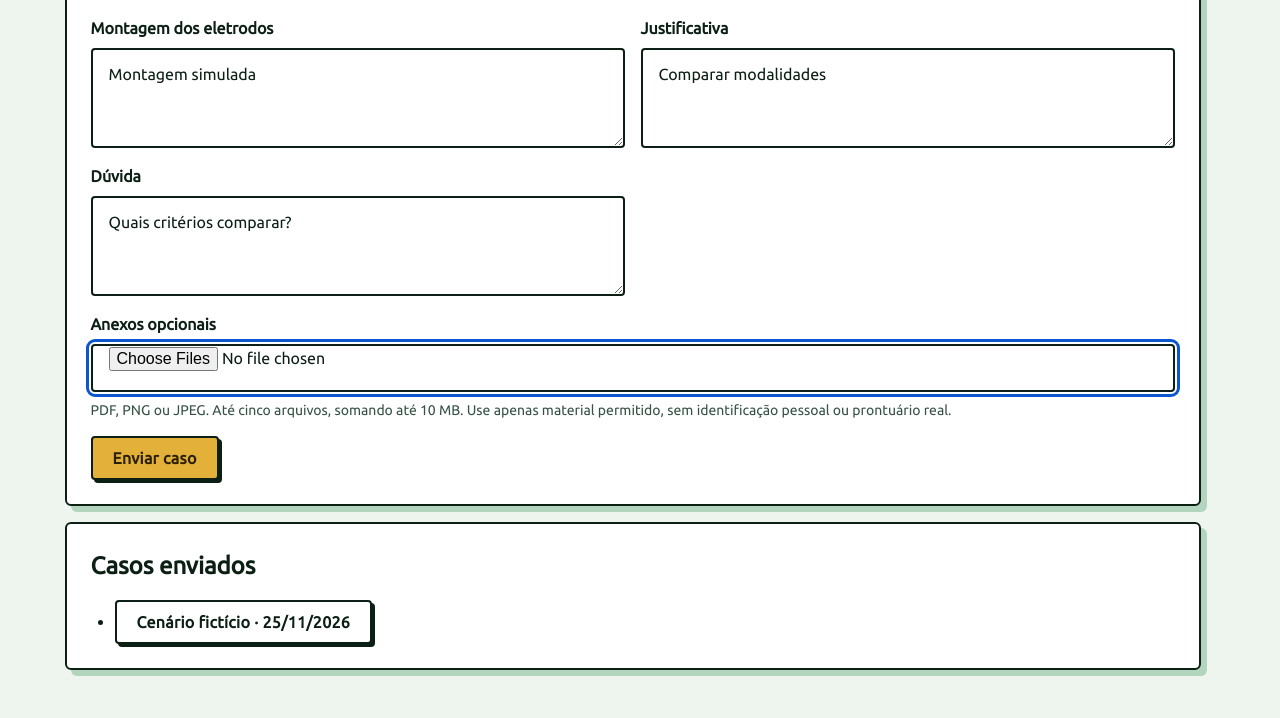
Scenario: envia o caso como multipart e abre a resposta educativa do próprio envio
Earlier steps of the test are not shown.
(page scrolled)
Click the button "Enviar caso". click: (155, 458)
box: x1=90 y1=436 x2=219 y2=480
(page scrolled)
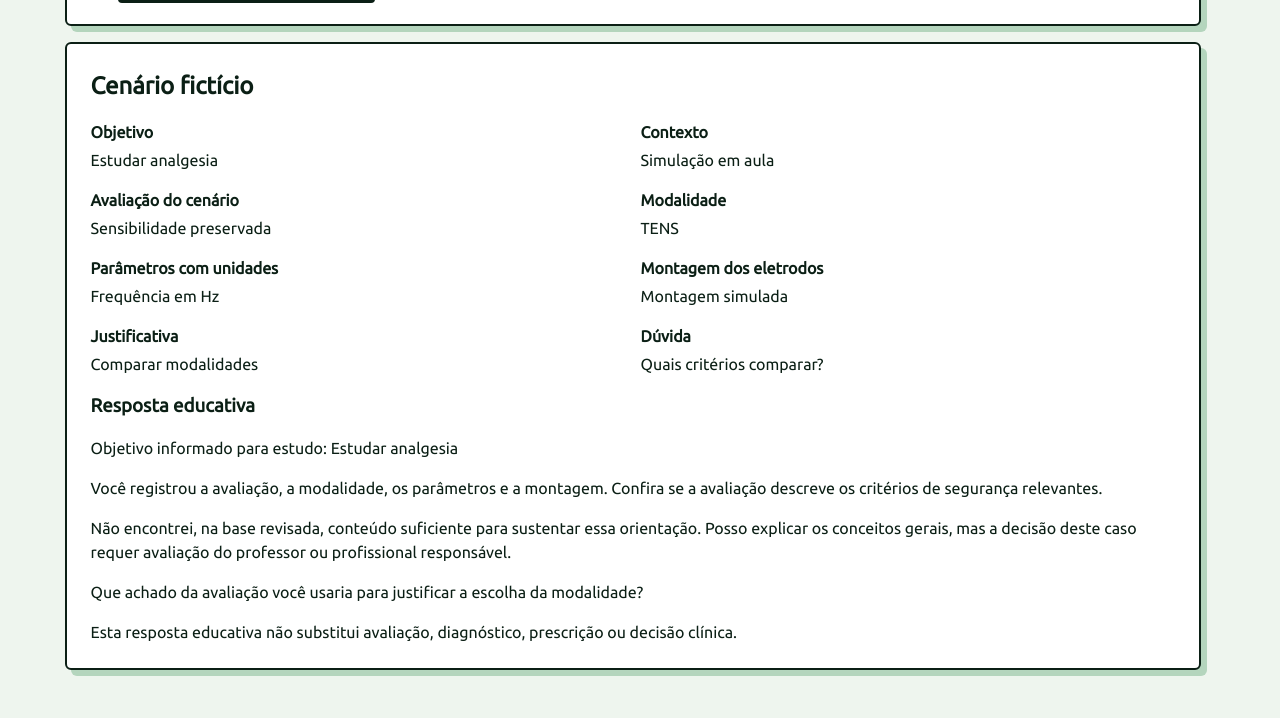
Expected: the heading "Resposta educativa" is shown, x1=90 y1=395 x2=255 y2=416
Expected: the text "Não encontrei, na base revisada" is shown, x1=90 y1=519 x2=1137 y2=561
